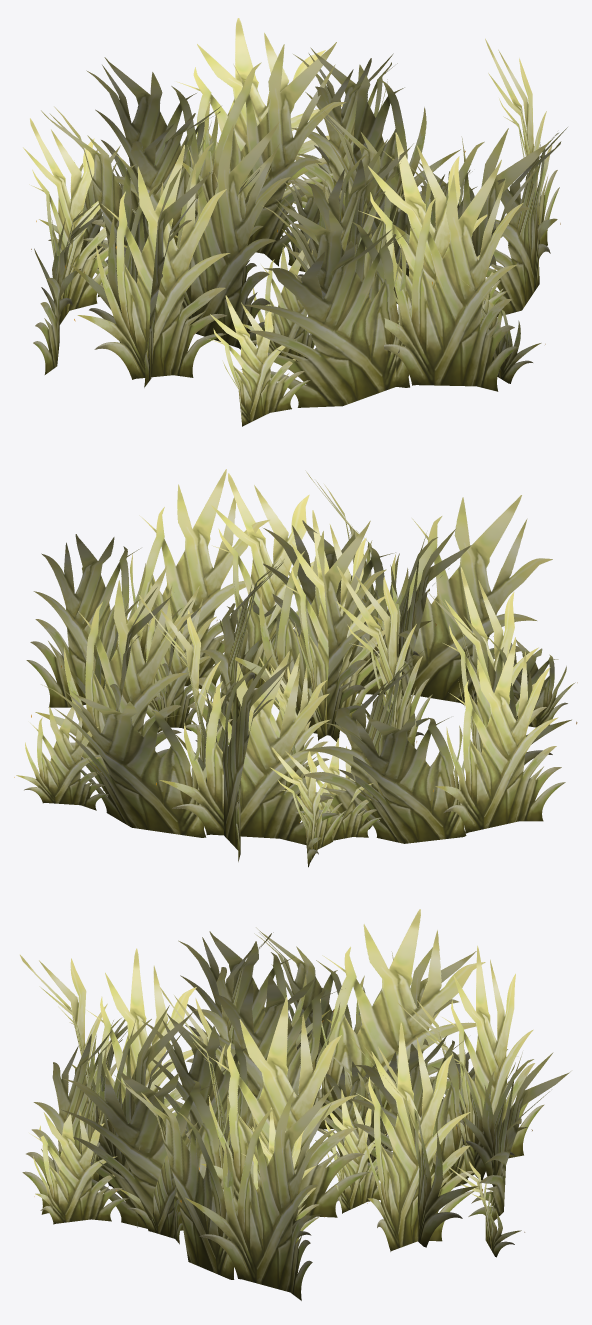
The model's file is Hay3.FBX.
3 renders of one model, top to bottom at view 1: azimuth 30°, elevation 25°; view 2: azimuth 150°, elevation 25°; view 3: azimuth 270°, elevation 25°, orthographic. The views are drawn at different scales.
Parts seen in each view (by area): view 1: Hay008; view 2: Hay008; view 3: Hay008.
Part boxes in pixels (<box>): Hay008: <box>23,18,567,426</box>; Hay008: <box>14,469,577,867</box>; Hay008: <box>20,909,570,1300</box>.
Bounding box in the file's own units: 277 × 101 × 260.
